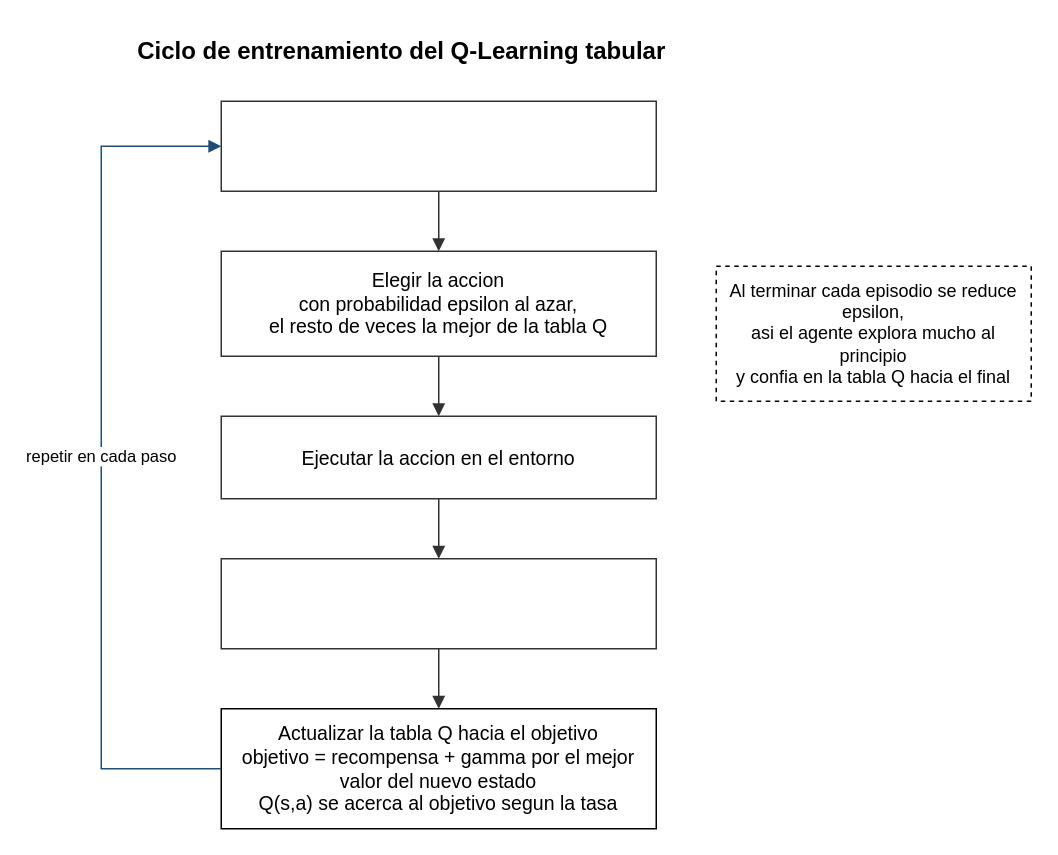
This 1058x855 diagram has some shape labels left out. The shapes that lost their labels are listed below. From the top down, each one's box as (x1, y1, x2, y2) in pixels, then its label:
(220, 100, 656, 191): Observar el estado del entorno y llevarlo a una casilla de la rejilla
(220, 557, 656, 649): Recibir la recompensa de menos uno y el nuevo estado
